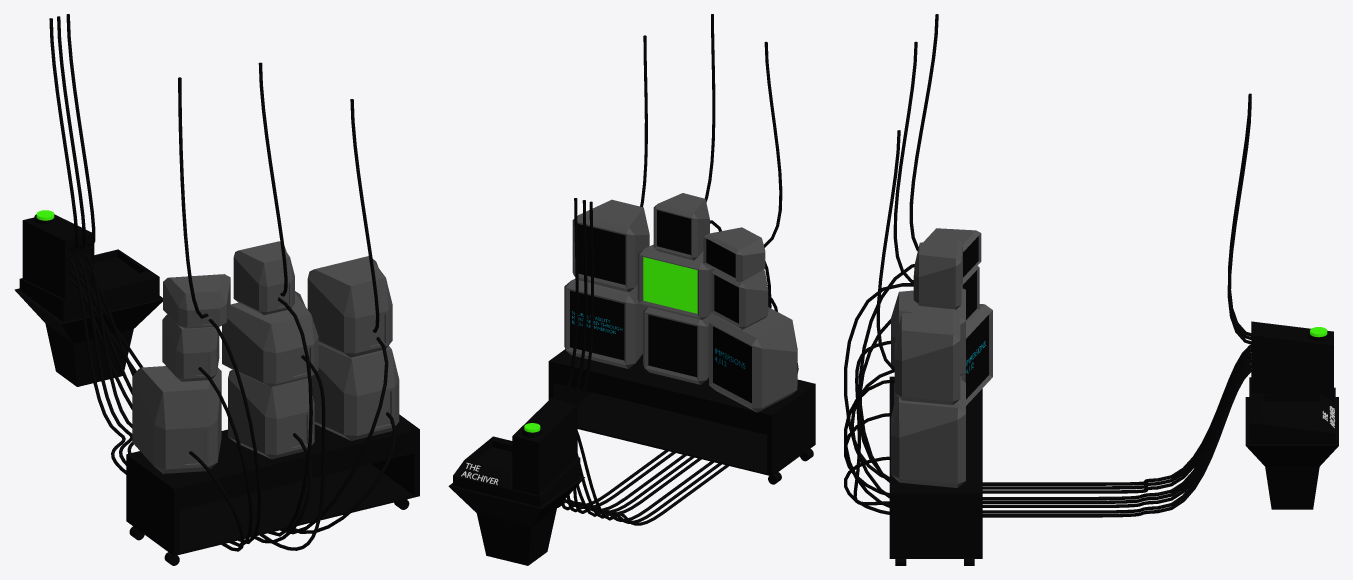
The model's file is The Archiver and TV.fbx.
The picture shows the model from 3 angles, left to right: view 1: azimuth 30°, elevation 25°; view 2: azimuth 150°, elevation 25°; view 3: azimuth 270°, elevation 25°; orthographic projection. The views are drawn at different scales.
Visible parts, largest first — view 1: Cube.209, Cube.207, Cube.215, Cube.214, Cube.217, Cube.213, Cube.216, Cube.208, Cube.210, Cube.211, Cube.212, BézierCurve.009 (+13 smaller); view 2: Cube.209, Cube.207, Cube.215, Cube.217, Cube.214, Cube.208, Cube.213, Cube.216, Cube.210, Cube.212, Cube.211, BézierCurve.007 (+11 smaller); view 3: Cube.207, Cube.209, Cube.217, Cube.214, Cube.208, Cube.210, BézierCurve.004, Cube.215, BézierCurve.009, BézierCurve.002, BézierCurve.011, BézierCurve.010 (+10 smaller).
Part boxes in pixels (left/top/right/bottom): Cube.209: left=126, top=414, right=419, bottom=555; Cube.207: left=19, top=215, right=159, bottom=322; Cube.215: left=132, top=366, right=221, bottom=473; Cube.214: left=307, top=256, right=392, bottom=357; Cube.217: left=311, top=343, right=399, bottom=440; Cube.213: left=222, top=291, right=318, bottom=386; Cube.216: left=228, top=369, right=314, bottom=459; Cube.208: left=14, top=288, right=162, bottom=386; Cube.210: left=233, top=241, right=294, bottom=315; Cube.211: left=163, top=274, right=230, bottom=328; Cube.212: left=162, top=314, right=219, bottom=381; BézierCurve.009: left=85, top=254, right=261, bottom=543; Cube.209: left=548, top=349, right=815, bottom=476; Cube.207: left=453, top=398, right=580, bottom=506; Cube.215: left=709, top=307, right=797, bottom=412; Cube.217: left=564, top=279, right=646, bottom=368; Cube.214: left=572, top=199, right=649, bottom=292; Cube.208: left=448, top=476, right=584, bottom=565; Cube.213: left=637, top=244, right=714, bottom=319; Cube.216: left=643, top=307, right=716, bottom=384; Cube.210: left=653, top=193, right=709, bottom=260; Cube.212: left=711, top=270, right=768, bottom=329; Cube.211: left=703, top=227, right=765, bottom=282; BézierCurve.007: left=577, top=363, right=798, bottom=525; Cube.207: left=1249, top=321, right=1335, bottom=444; Cube.209: left=889, top=376, right=982, bottom=558; Cube.217: left=891, top=379, right=965, bottom=487; Cube.214: left=894, top=309, right=960, bottom=405; Cube.208: left=1245, top=397, right=1338, bottom=509; Cube.210: left=913, top=239, right=962, bottom=309; BézierCurve.004: left=844, top=283, right=1251, bottom=507; Cube.215: left=961, top=304, right=992, bottom=405; BézierCurve.009: left=858, top=264, right=1251, bottom=493; BézierCurve.002: left=853, top=340, right=1251, bottom=505; BézierCurve.011: left=844, top=369, right=1251, bottom=517; BézierCurve.010: left=844, top=368, right=1250, bottom=513.
Size of the model in its own units: 326 by 597 by 581.
